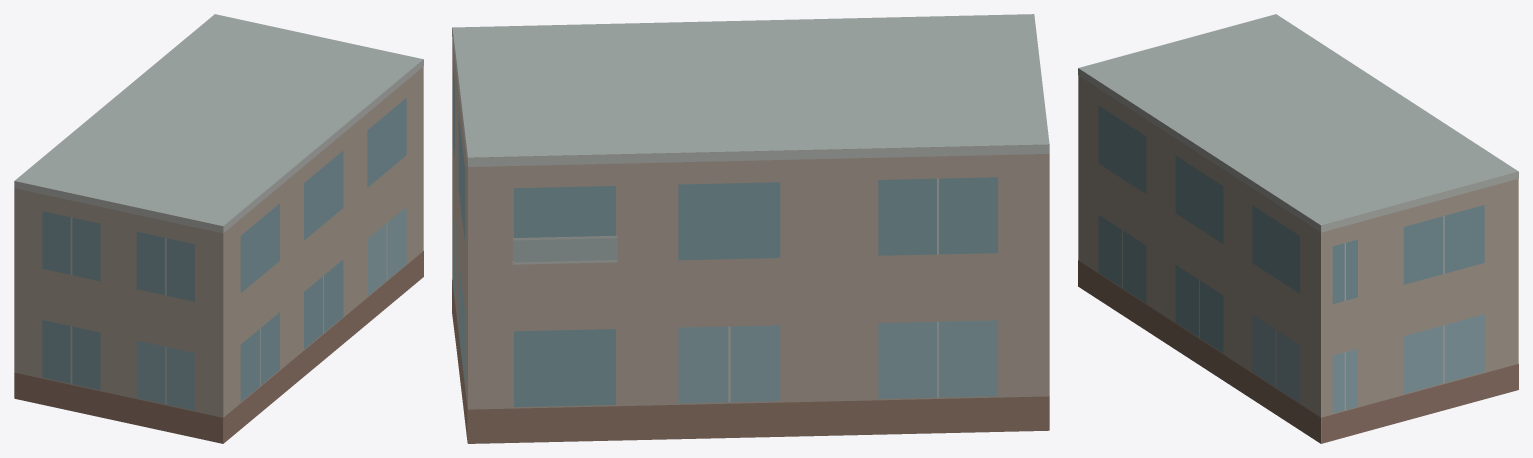
Rendered from survey-upis-32615706.glb.
3 views of the same model, side by side, from view 1: azimuth 30°, elevation 25°; view 2: azimuth 150°, elevation 25°; view 3: azimuth 270°, elevation 25° (orthographic). The views are drawn at different scales.
Parts seen in each view (by area): view 1: survey-upis-32615706.tmp; view 2: survey-upis-32615706.tmp; view 3: survey-upis-32615706.tmp.
Boxes of the visible parts, left/top/right/bottom form: survey-upis-32615706.tmp: left=14, top=14, right=423, bottom=443; survey-upis-32615706.tmp: left=452, top=14, right=1049, bottom=443; survey-upis-32615706.tmp: left=1078, top=14, right=1518, bottom=443.
Size of the model in its own units: 15.37 by 7.4 by 13.54.
